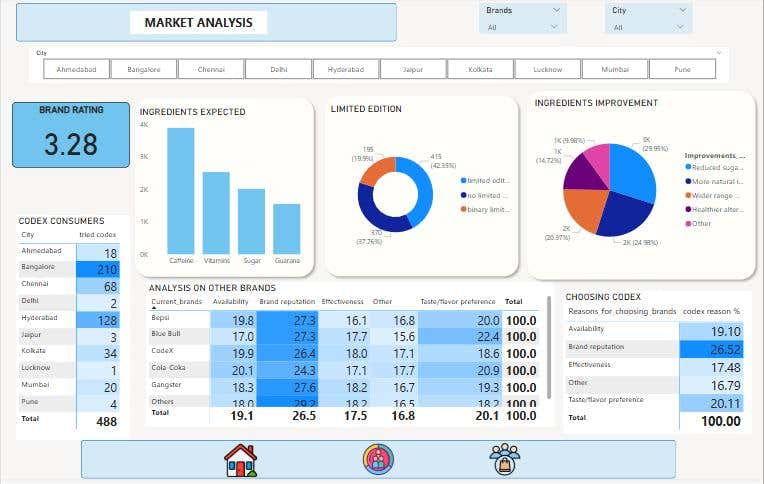

What the dashboard file says about the page in this screenshot:
{"tool":"powerbi","page":{"name":"market","canvas":[1360,860],"ordinal":3},"visuals":[{"type":"shape","box":[930.2,158.9,425.7,354.3],"z":0,"group":"g3"},{"type":"shape","box":[568.6,167.7,363,339.5],"z":0,"group":"g2"},{"type":"shape","box":[230.4,170.6,336.8,336.8],"z":0,"group":"g1"},{"type":"pivotTable","title":"ANALYSIS ON OTHER BRANDS","fields":{"Rows":["fact_survey_responses.Current_brands"],"Columns":["fact_survey_responses.Reasons_for_choosing_brands"],"Values":["Measure Table.brand reason percentage"]},"box":[258.1,508.8,729,258.1],"z":0},{"type":"pivotTable","title":"CHOOSING CODEX","fields":{"Values":["Measure Table.codex reason %"],"Rows":["fact_survey_responses.Reasons_for_choosing_brands"]},"box":[1003.1,524.9,338.3,255.1],"z":1000},{"type":"pieChart","title":"INGREDIENTS IMPROVEMENT","fields":{"Category":["fact_survey_responses.Improvements_desired"],"Y":["Measure Table.total consumers"]},"box":[947.4,178,393.7,313.5],"z":2000,"group":"g3"},{"type":"card","title":"BRAND RATING","fields":{"Values":["Measure Table.brand rating"]},"box":[20.4,188.1,209.9,116.6],"z":2000},{"type":"columnChart","title":"INGREDIENTS EXPECTED","fields":{"Category":["fact_survey_responses.Ingredients_expected"],"Y":["Measure Table.total consumers"]},"box":[242.9,194.5,323.8,294.7],"z":3000,"group":"g1"},{"type":"pivotTable","title":"CODEX CONSUMERS","fields":{"Rows":["dim_cities.City"],"Values":["Measure Table.tried codex"]},"box":[26.2,389.3,204.1,402.4],"z":3000},{"type":"slicer","fields":{"Values":["dim_cities.City"]},"box":[49.6,88.9,1249.5,64.2],"z":4000},{"type":"donutChart","title":"LIMITED EDITION","fields":{"Y":["Measure Table.limited edition consumers","Measure Table.no limited edition consumers","Measure Table.binary limited edition consumers"]},"box":[582.3,188.6,339.7,307.6],"z":4000,"group":"g2"},{"type":"group","id":"g1","title":"Group 1","box":[230.4,170.6,336.8,336.8],"z":5000},{"type":"group","id":"g2","title":"Group 2","box":[568.6,167.7,363,339.5],"z":6000},{"type":"group","id":"g3","title":"Group 3","box":[930.2,158.9,425.7,354.3],"z":7000},{"type":"shape","box":[142.9,791.5,1061.4,68.5],"z":8000},{"type":"slicer","fields":{"Values":["dim_cities.City"]},"box":[1077.4,10.2,157.5,55.4],"z":9000},{"type":"slicer","fields":{"Values":["fact_survey_responses.Current_brands"]},"box":[852.9,10.2,157.5,55.4],"z":10000},{"type":"shape","box":[26.2,10.2,679.4,68.5],"z":11000},{"type":"textbox","box":[230.4,24.8,244.9,40.8],"z":12000},{"type":"image","box":[380.5,791.7,94.8,68.5],"z":13000},{"type":"image","box":[613.8,790.2,119.6,68.5],"z":14000},{"type":"image","box":[838.3,790.2,121,68.5],"z":15000}]}

Visuals, with their boxes in screenshot pixels (x1, y1, x2, y2), scaled from the page's 1360x860 canvas onto the 764x484 screenshot:
shape: BBox(523, 89, 762, 289)
shape: BBox(319, 94, 523, 285)
shape: BBox(129, 96, 319, 286)
"ANALYSIS ON OTHER BRANDS" pivotTable: BBox(145, 286, 555, 432)
"CHOOSING CODEX" pivotTable: BBox(564, 295, 754, 439)
"INGREDIENTS IMPROVEMENT" pieChart: BBox(532, 100, 753, 277)
"BRAND RATING" card: BBox(11, 106, 129, 171)
"INGREDIENTS EXPECTED" columnChart: BBox(136, 109, 318, 275)
"CODEX CONSUMERS" pivotTable: BBox(15, 219, 129, 446)
slicer - dim_cities.City: BBox(28, 50, 730, 86)
"LIMITED EDITION" donutChart: BBox(327, 106, 518, 279)
"Group 1" group: BBox(129, 96, 319, 286)
"Group 2" group: BBox(319, 94, 523, 285)
"Group 3" group: BBox(523, 89, 762, 289)
shape: BBox(80, 445, 677, 483)
slicer - dim_cities.City: BBox(605, 6, 694, 37)
slicer - fact_survey_responses.Current_brands: BBox(479, 6, 568, 37)
shape: BBox(15, 6, 396, 44)
textbox: BBox(129, 14, 267, 37)
image: BBox(214, 446, 267, 483)
image: BBox(345, 445, 412, 483)
image: BBox(471, 445, 539, 483)
